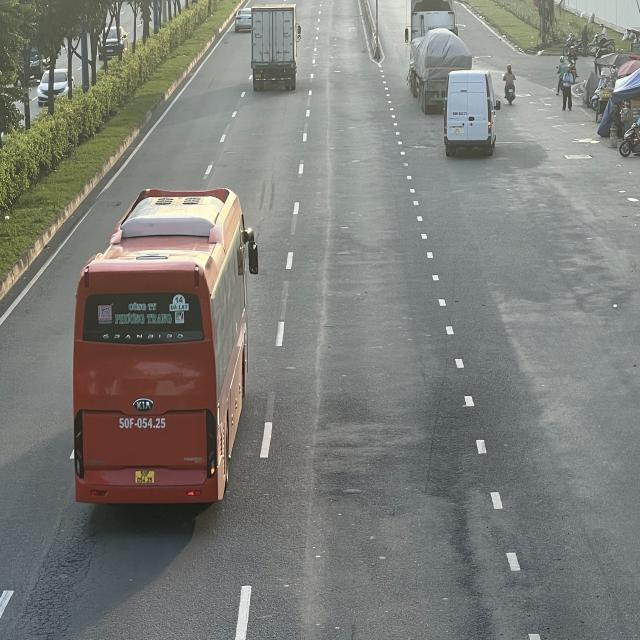car: (236, 8, 254, 34)
coach: (74, 186, 256, 515)
container: (406, 2, 473, 113)
truck: (252, 0, 302, 88)
van: (443, 72, 498, 158)
